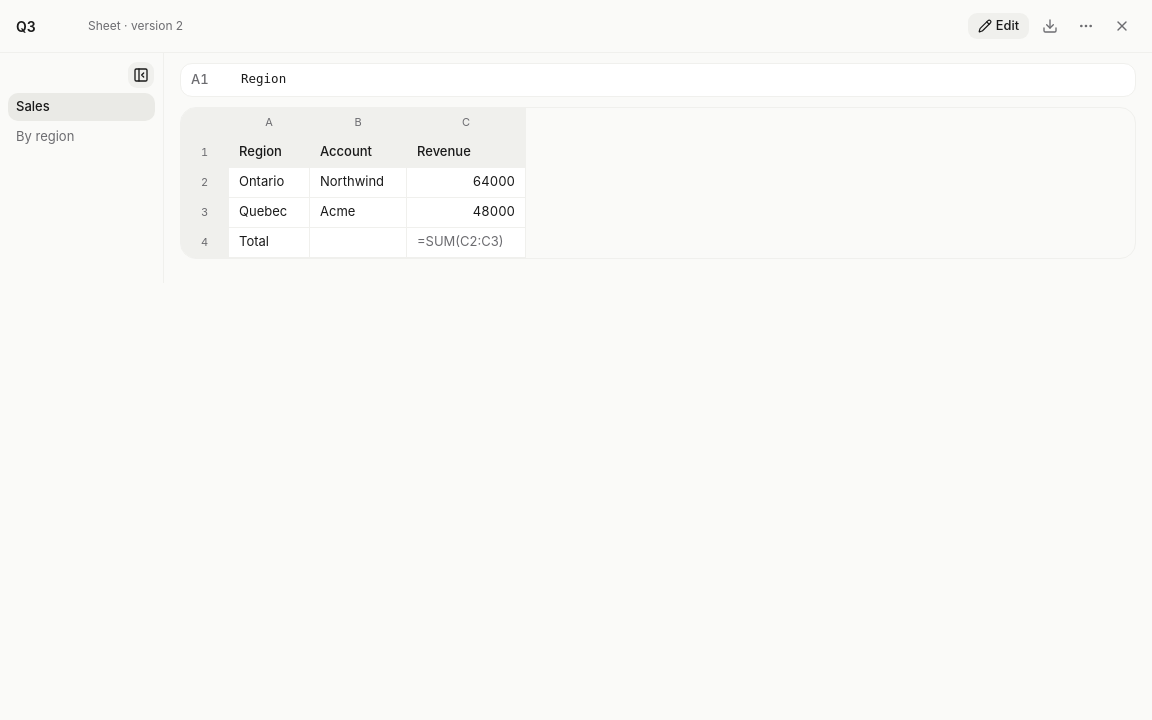
Scenario: lists a workbook's sheets in the navigator and switches between them; a CSV has none
Click the button with test id "sheet-tab".
click(82, 137)  # box [8,123,155,151]
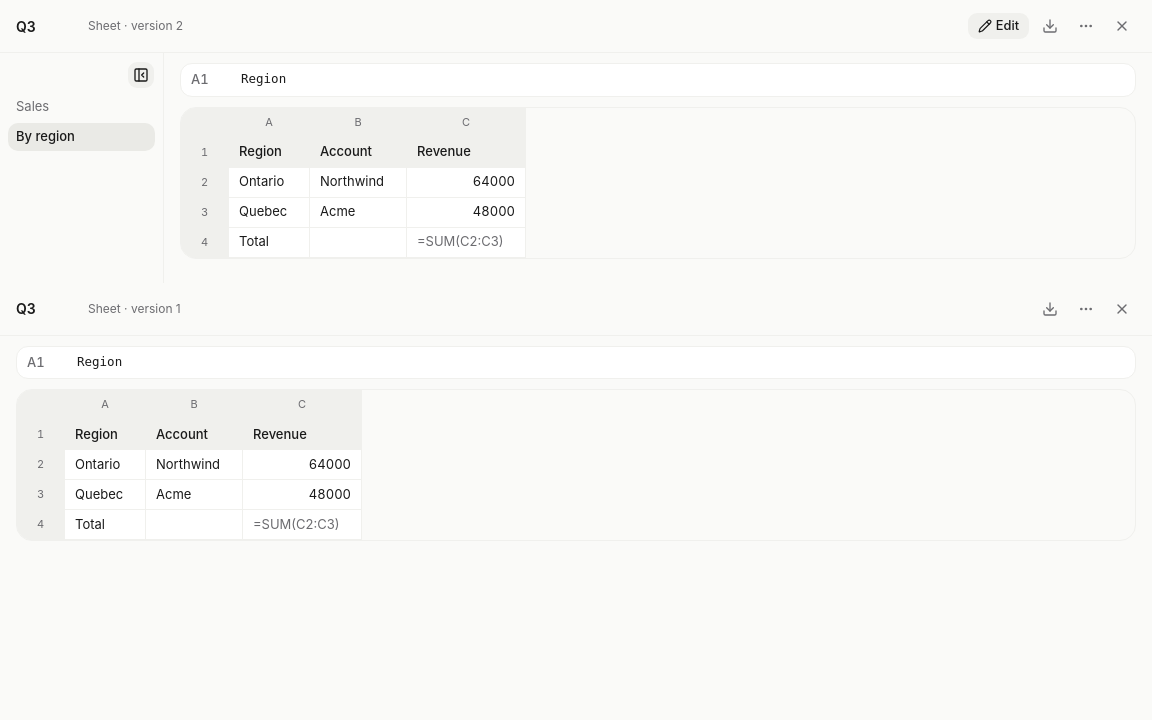
Result: the text with test id "version-label" reads "Sheet · version 1" at [88,300,181,316]
